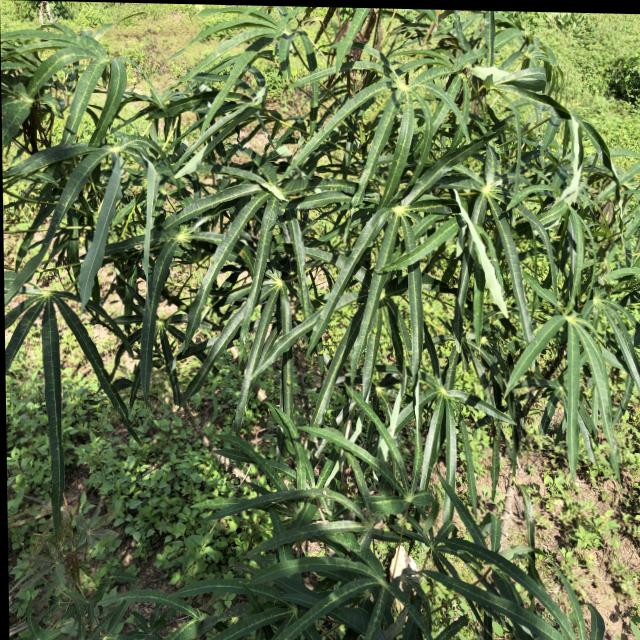Mosca: (454, 296, 477, 320), (54, 498, 76, 523), (81, 591, 97, 612), (255, 543, 271, 564), (227, 610, 239, 626), (411, 156, 424, 170), (315, 483, 326, 498), (280, 375, 291, 390)
